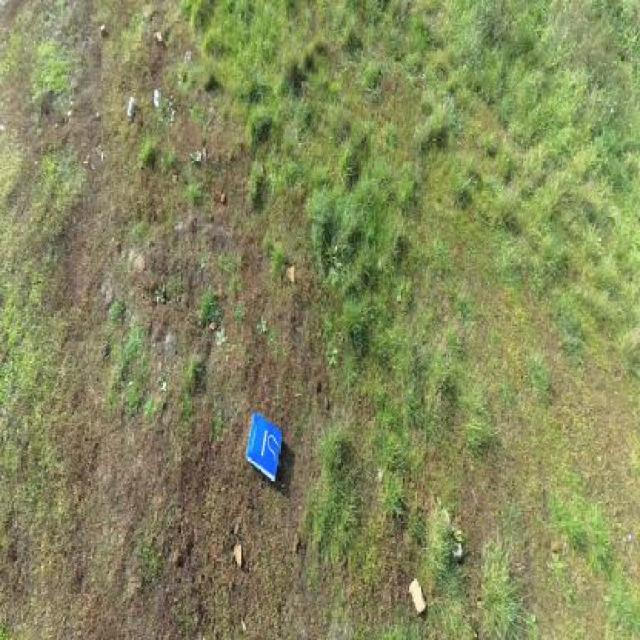Garbage: (245, 411, 282, 483), (408, 577, 427, 616), (153, 29, 164, 46), (128, 96, 136, 117), (99, 21, 107, 38), (154, 87, 160, 107), (218, 193, 226, 205)
